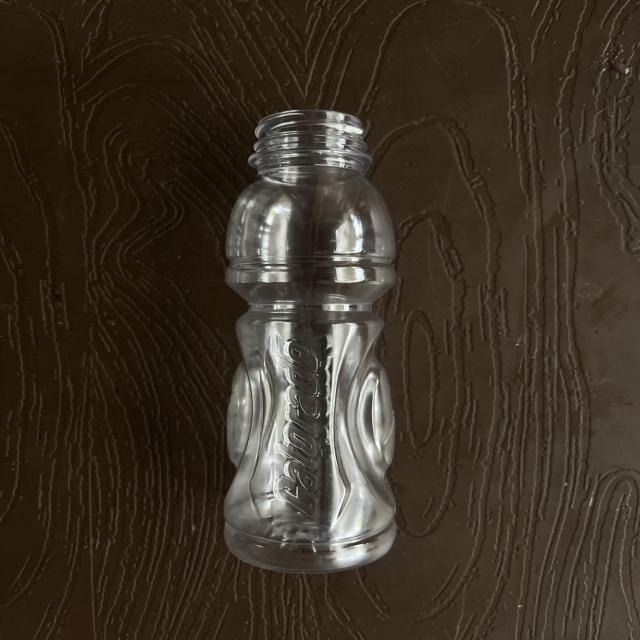PET_ClearBottle: (202, 110, 572, 577)
